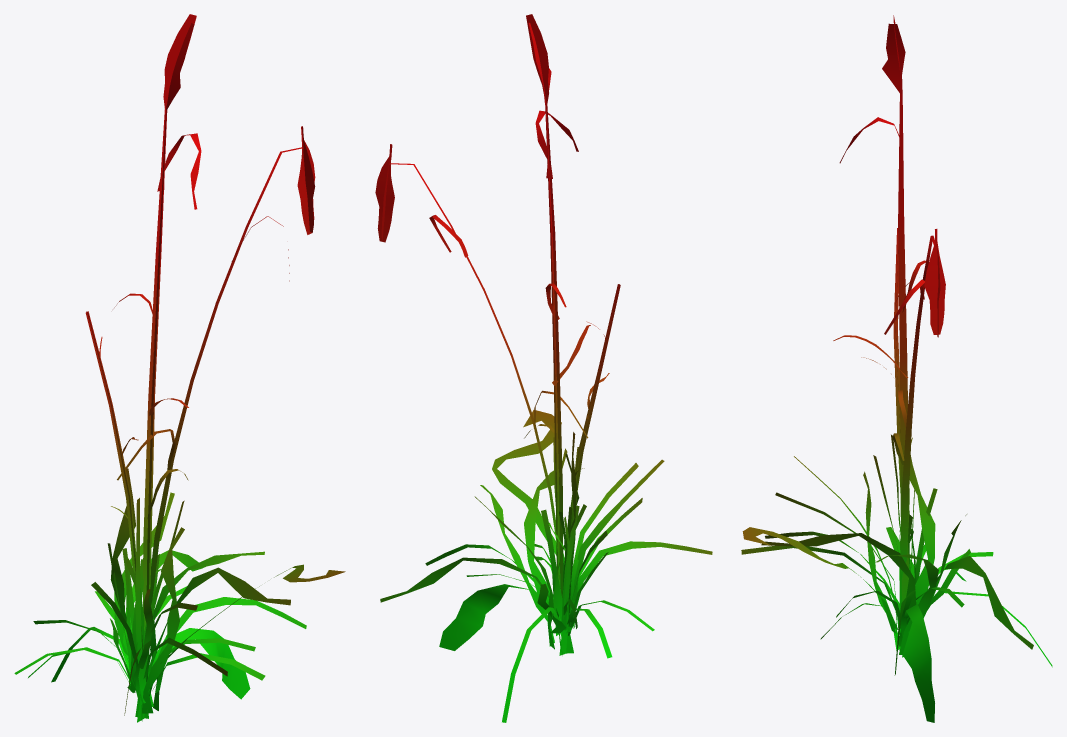
The model's file is Wheat Grass_LOD1_Var4_tdcrdbur.fbx.
The picture shows the model from 3 angles, left to right: view 1: azimuth 30°, elevation 25°; view 2: azimuth 150°, elevation 25°; view 3: azimuth 270°, elevation 25°; orthographic projection. The views are drawn at different scales.
Parts seen in each view (by area): view 1: _a00d_Var4_LOD1; view 2: _a00d_Var4_LOD1; view 3: _a00d_Var4_LOD1.
Part boxes in pixels (<box>): _a00d_Var4_LOD1: <box>14,14,345,722</box>; _a00d_Var4_LOD1: <box>375,14,712,722</box>; _a00d_Var4_LOD1: <box>741,15,1052,722</box>.
Bounding box in the file's own units: 50.18 × 112 × 46.84.
